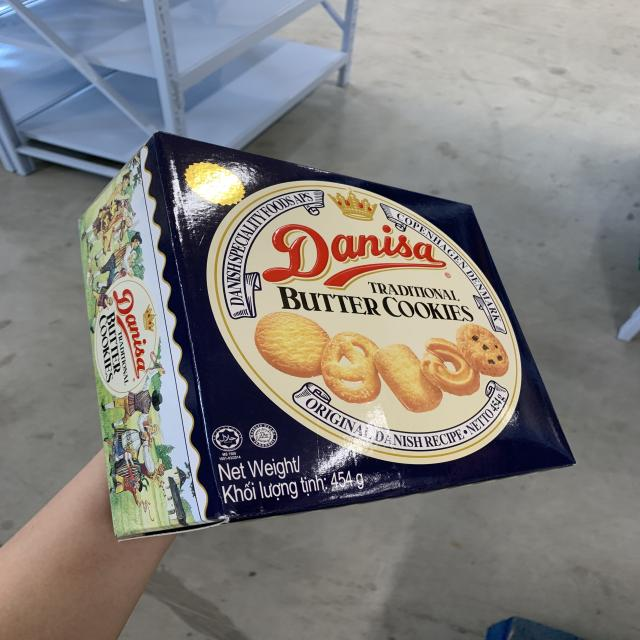object_name: (81, 166, 560, 512)
